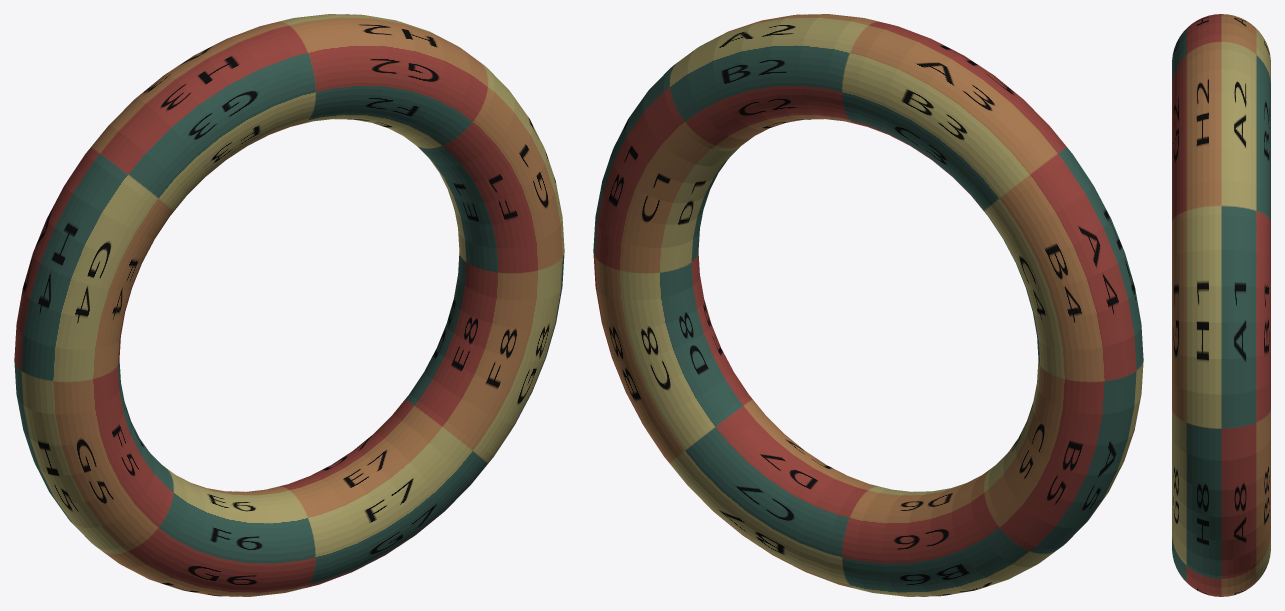
File: texture_torus_R27_r14.glb
3 views of the same model, side by side, from view 1: azimuth 30°, elevation 25°; view 2: azimuth 150°, elevation 25°; view 3: azimuth 270°, elevation 25° (orthographic). The views are drawn at different scales.
Parts seen in each view (by area): view 1: world; view 2: world; view 3: world.
Boxes of the visible parts, x1=… form: world: x1=14, y1=14, x2=564, y2=596; world: x1=593, y1=14, x2=1143, y2=596; world: x1=1172, y1=14, x2=1270, y2=596.
Size of the model in its own units: 33.73 by 33.67 by 5.72.
1 material, 1 textured.
